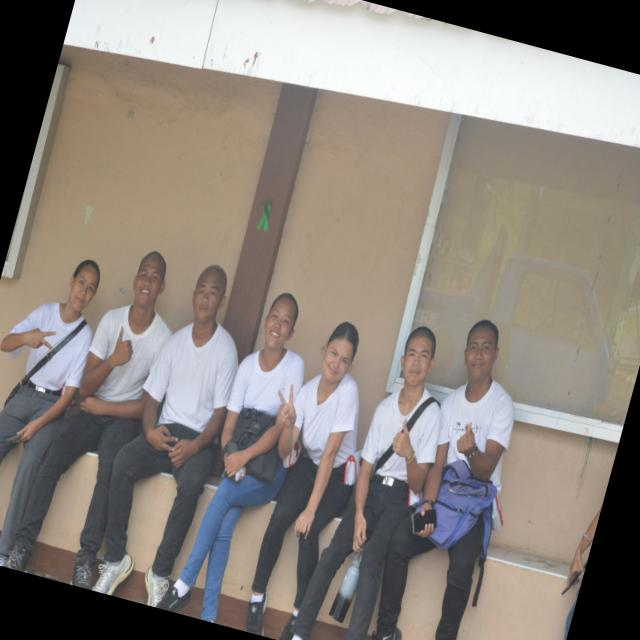person: (6, 252, 170, 588), (93, 266, 237, 606), (158, 294, 303, 621), (292, 327, 440, 639), (245, 322, 358, 639), (0, 325, 91, 565), (417, 320, 513, 514), (567, 510, 600, 582)
